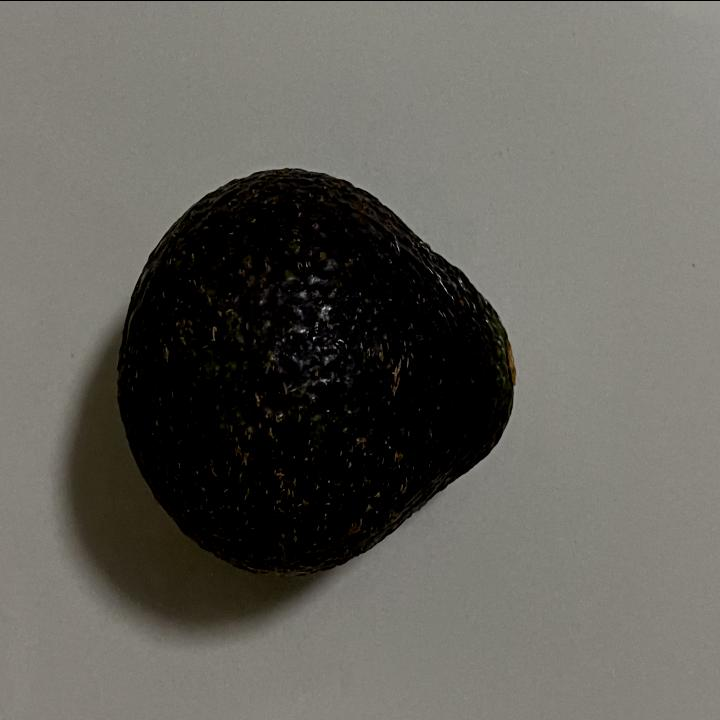Level1: (107, 156, 527, 582)
